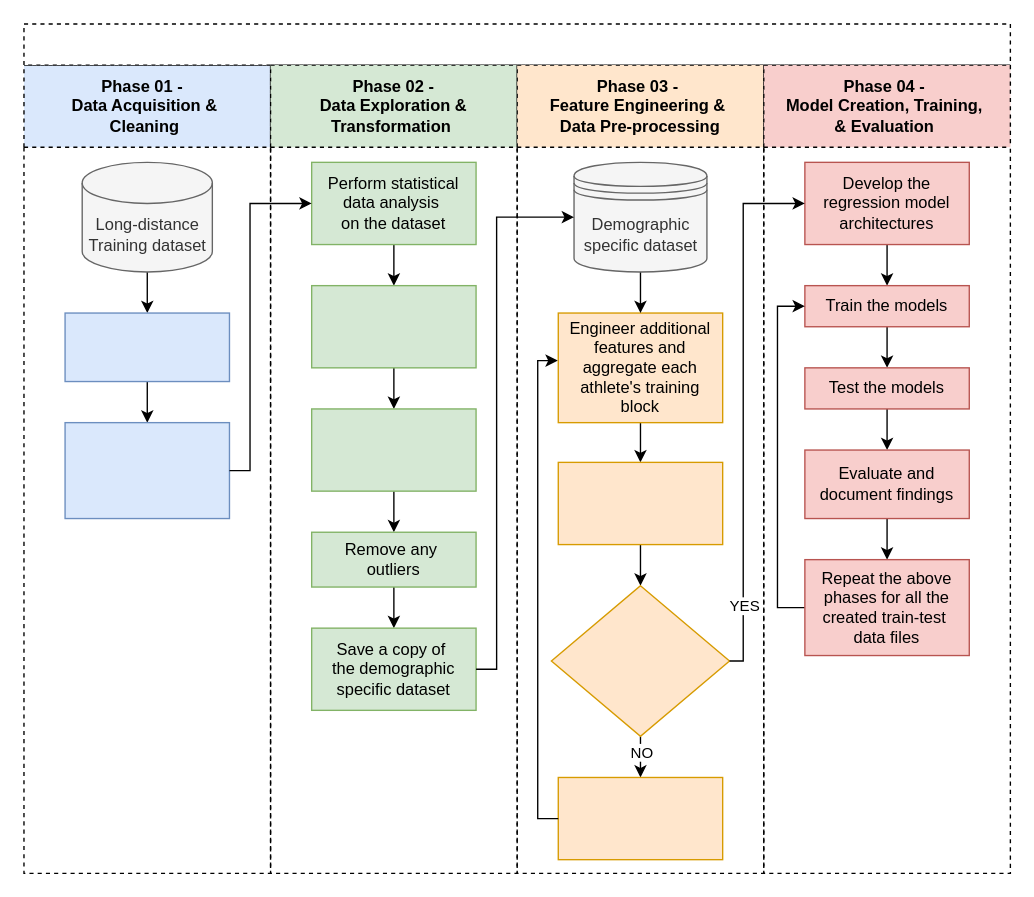
The diagram is 1034 pixels wide and 897 high, and some of its shapes have lost their labels. Each missing label, with the centre of its shape:
"Acquire a prototype script" belongs at [146,347].
"Are the time-frame reduced datasets ready ?" belongs at [640,660].
"Filter the dataset to the dominant demographic group" belongs at [393,326].
"Reduce some weeks from the previously selected amount" belongs at [640,818].
"Remove training blocks shorter than 16 weeks" belongs at [393,449].
"Remove unwanted features and check for malformed or missing data" belongs at [146,470].
"Research Pipeline" belongs at [516,44].
"Split the aggregated dataset into separate train-test data files" belongs at [640,503].
